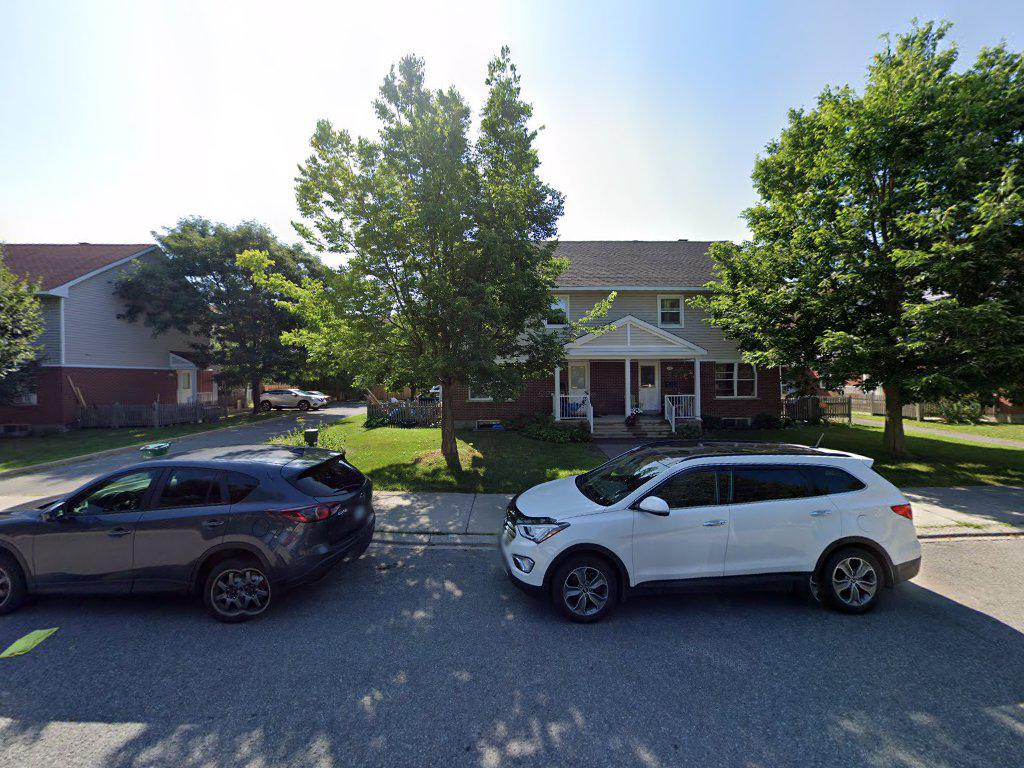trunk: (434, 371, 466, 473), (880, 381, 911, 469)
